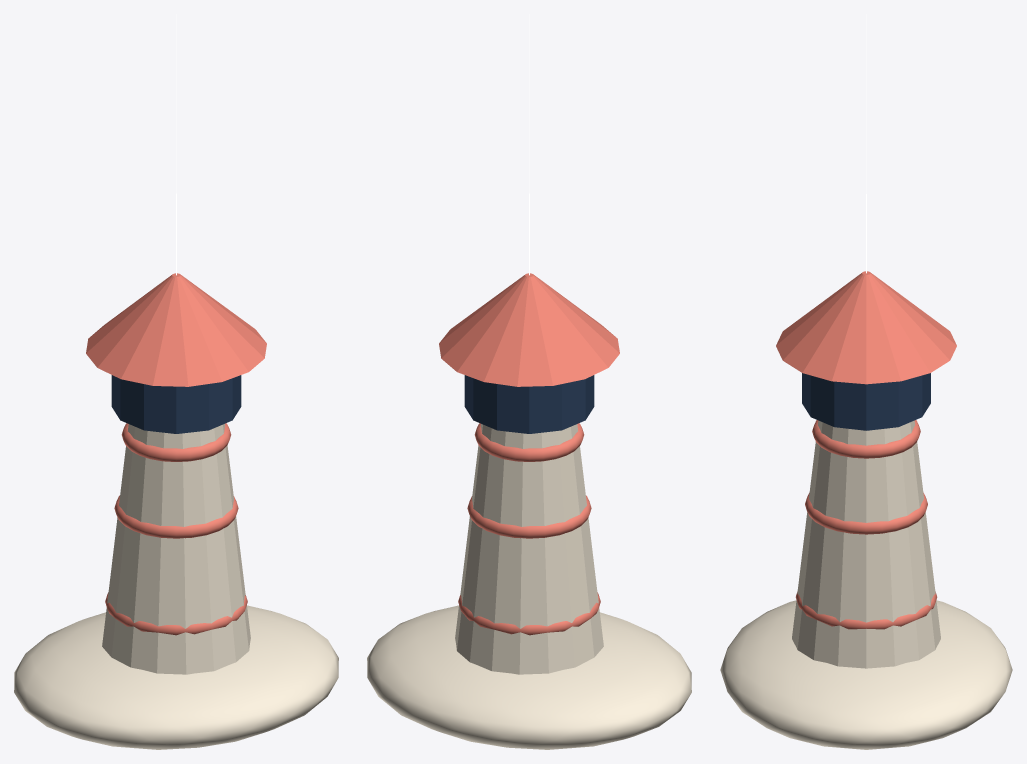
The model's file is great-lighthouse.glb.
The picture shows the model from 3 angles, left to right: view 1: azimuth 30°, elevation 25°; view 2: azimuth 150°, elevation 25°; view 3: azimuth 270°, elevation 25°; orthographic projection.
Visible parts, largest first — view 1: Lighthouse reef, Tapered nacre tower, Shell spire, Lantern room, Coral tower ring.001, Coral tower ring.002, Coral tower ring; view 2: Lighthouse reef, Tapered nacre tower, Shell spire, Lantern room, Coral tower ring.001, Coral tower ring.002, Coral tower ring; view 3: Lighthouse reef, Tapered nacre tower, Shell spire, Lantern room, Coral tower ring.001, Coral tower ring.002, Coral tower ring.
Part boxes in pixels (<box>): Lighthouse reef: <box>14,605,338,749</box>; Tapered nacre tower: <box>102,424,250,674</box>; Shell spire: <box>86,273,266,386</box>; Lantern room: <box>111,375,241,433</box>; Coral tower ring.001: <box>114,495,238,538</box>; Coral tower ring.002: <box>121,423,231,461</box>; Coral tower ring: <box>105,592,247,635</box>; Lighthouse reef: <box>367,605,691,749</box>; Tapered nacre tower: <box>455,424,603,674</box>; Shell spire: <box>439,273,619,386</box>; Lantern room: <box>464,375,594,433</box>; Coral tower ring.001: <box>467,495,591,538</box>; Coral tower ring.002: <box>474,423,584,461</box>; Coral tower ring: <box>458,592,600,635</box>; Lighthouse reef: <box>720,600,1012,749</box>; Tapered nacre tower: <box>792,420,940,668</box>; Shell spire: <box>776,271,956,384</box>; Lantern room: <box>802,373,930,430</box>; Coral tower ring.001: <box>805,492,927,534</box>; Coral tower ring.002: <box>812,420,920,458</box>; Coral tower ring: <box>795,591,937,629</box>.
Size of the model in its own units: 2.3 by 5.23 by 2.
